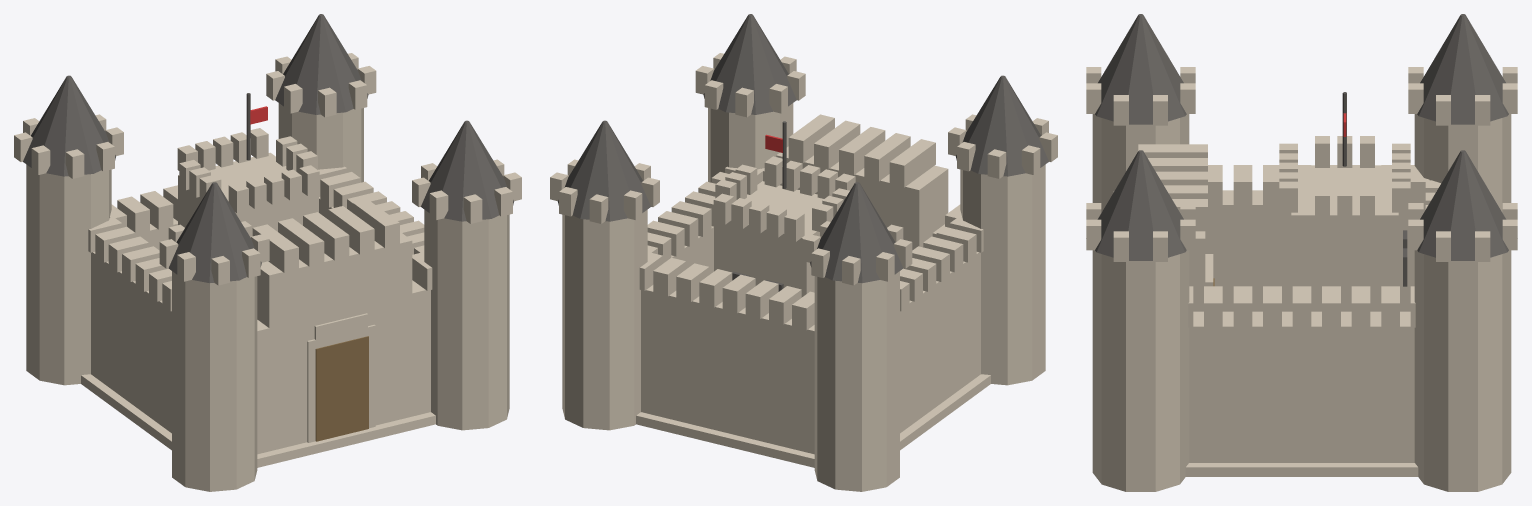
Rendered from castle.glb.
3 renders of one model, left to right at view 1: azimuth 30°, elevation 25°; view 2: azimuth 150°, elevation 25°; view 3: azimuth 270°, elevation 25°, orthographic. The views are drawn at different scales.
Visible parts, largest first — view 1: Castle; view 2: Castle; view 3: Castle.
Boxes of the visible parts, x1=… form: Castle: x1=14, y1=14, x2=521, y2=491; Castle: x1=550, y1=14, x2=1057, y2=491; Castle: x1=1086, y1=14, x2=1517, y2=491.
Size of the model in its own units: 8.04 by 6.6 by 8.04.
